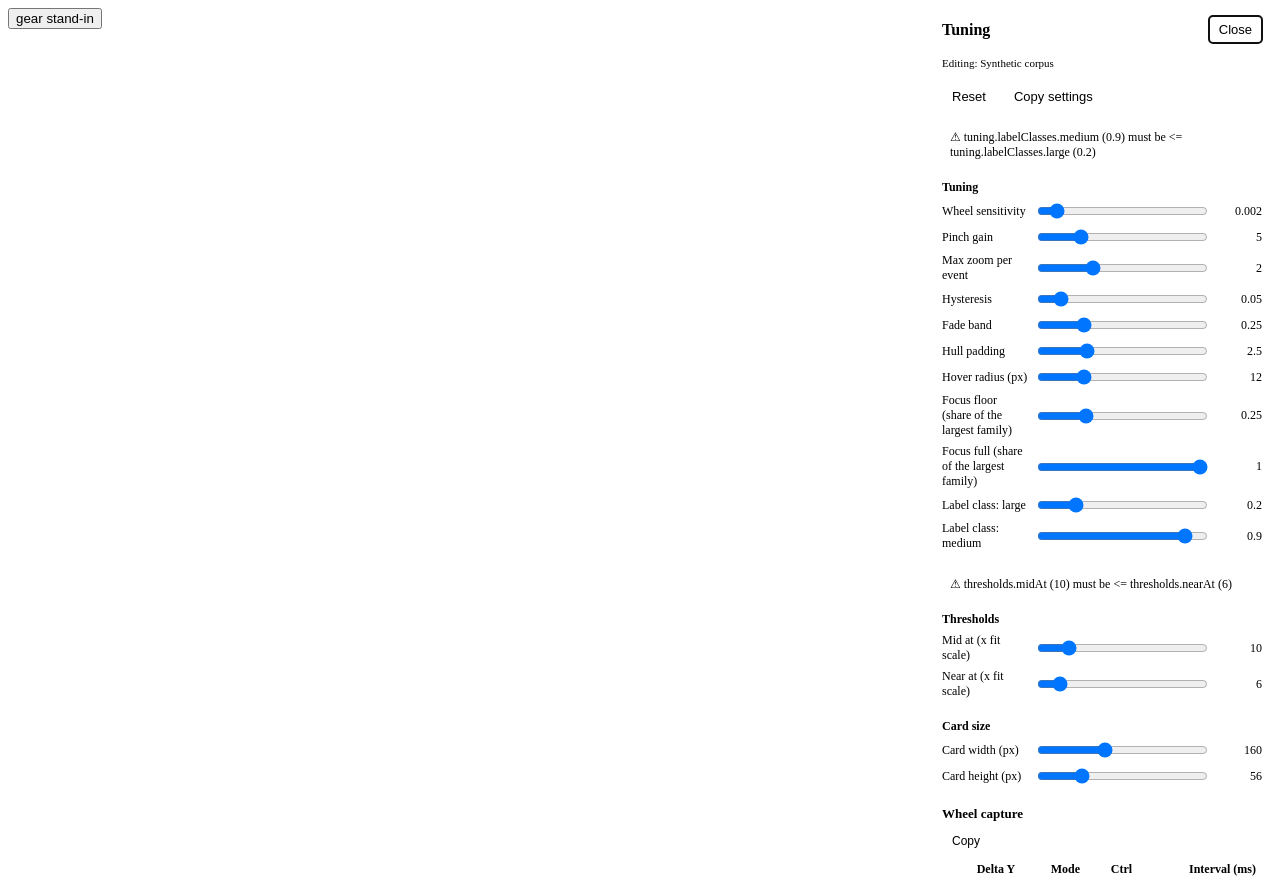
TuningPanel (showcase Task 7) › Copy settings copies the last valid values, not a draft in error, and says so
Click the button "Copy settings": (1053, 96) x1=1004 y1=83 x2=1103 y2=110
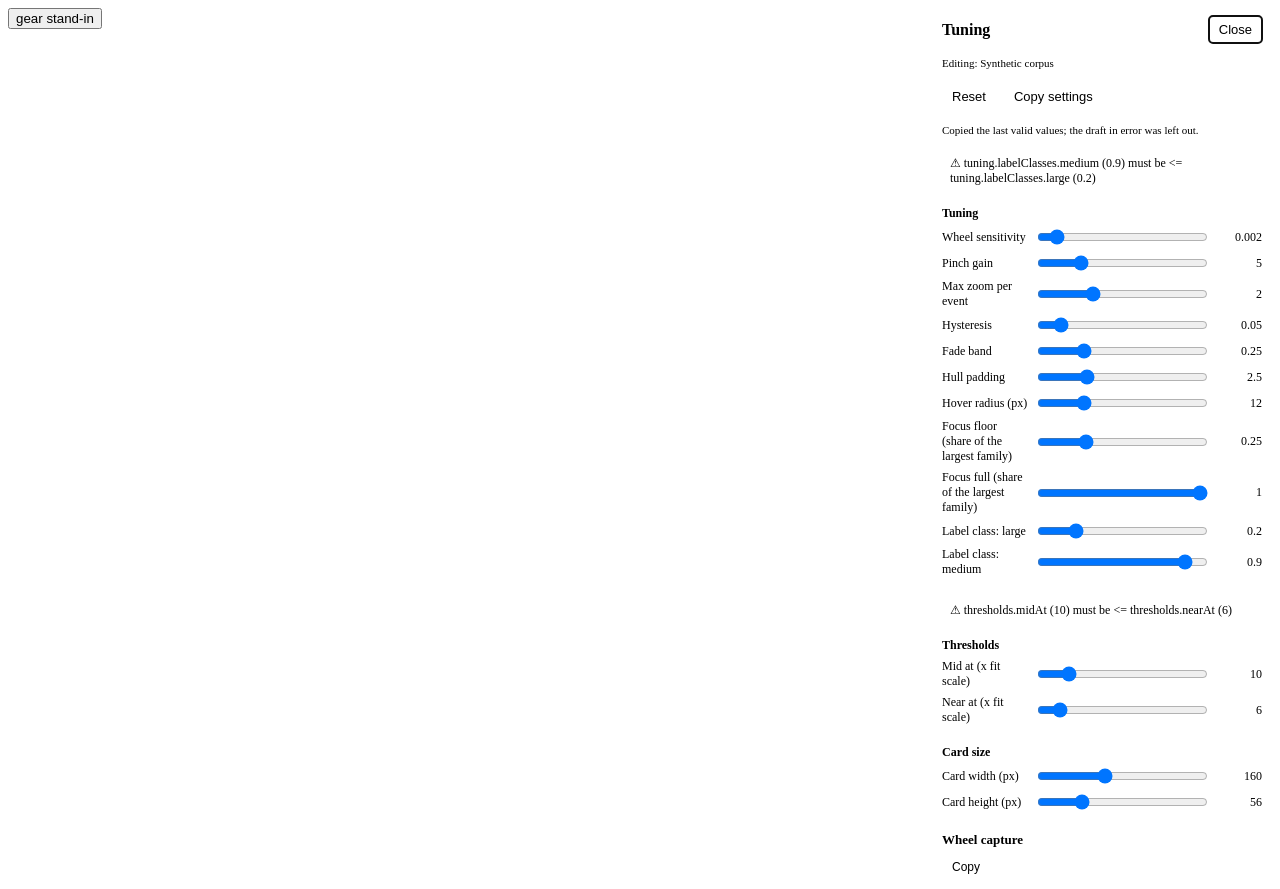
Expected: the text "Copied the last valid values; the draft in error was left out." is shown, x1=942 y1=124 x2=1199 y2=136
